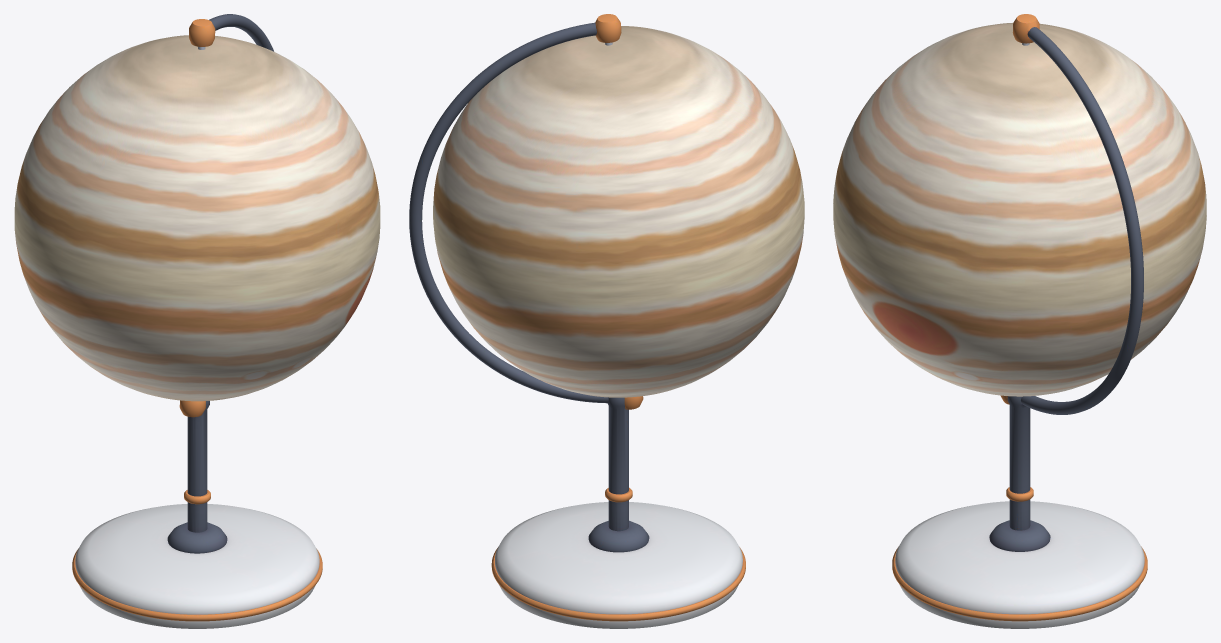
File: jupiter.glb
3 renders of one model, left to right at view 1: azimuth 30°, elevation 25°; view 2: azimuth 150°, elevation 25°; view 3: azimuth 270°, elevation 25°, orthographic. The views are drawn at different scales.
Parts seen in each view (by area): view 1: jupiter_sphere, jupiter_body; view 2: jupiter_sphere, jupiter_body; view 3: jupiter_sphere, jupiter_body.
Boxes of the visible parts, x1,y1,x2,y2 form: jupiter_sphere: [14, 35, 380, 401]; jupiter_body: [72, 14, 322, 628]; jupiter_sphere: [433, 26, 804, 397]; jupiter_body: [409, 14, 745, 628]; jupiter_sphere: [833, 23, 1206, 396]; jupiter_body: [892, 14, 1147, 628].
Bounding box in the file's own units: 0.3298 × 0.5544 × 0.3298.
2 materials, 2 textured.
